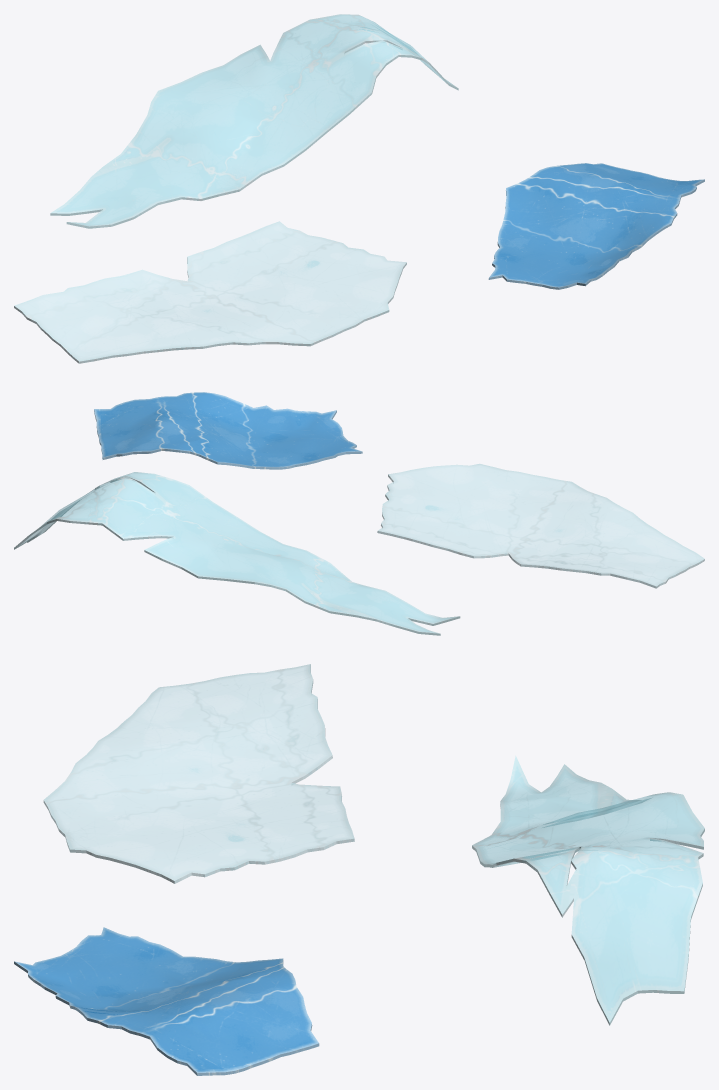
The model's file is film.glb.
3 views of the same model, one above another, from view 1: azimuth 30°, elevation 25°; view 2: azimuth 150°, elevation 25°; view 3: azimuth 270°, elevation 25° (orthographic). The views are drawn at different scales.
Visible parts, largest first — view 1: film; view 2: film; view 3: film.
Boxes of the visible parts, <box> form: film: <box>14,14,704,363</box>; film: <box>14,392,704,635</box>; film: <box>14,664,704,1075</box>.
Size of the model in its own units: 0.3568 by 0.0531 by 0.2543.
3 materials, 3 textured.
